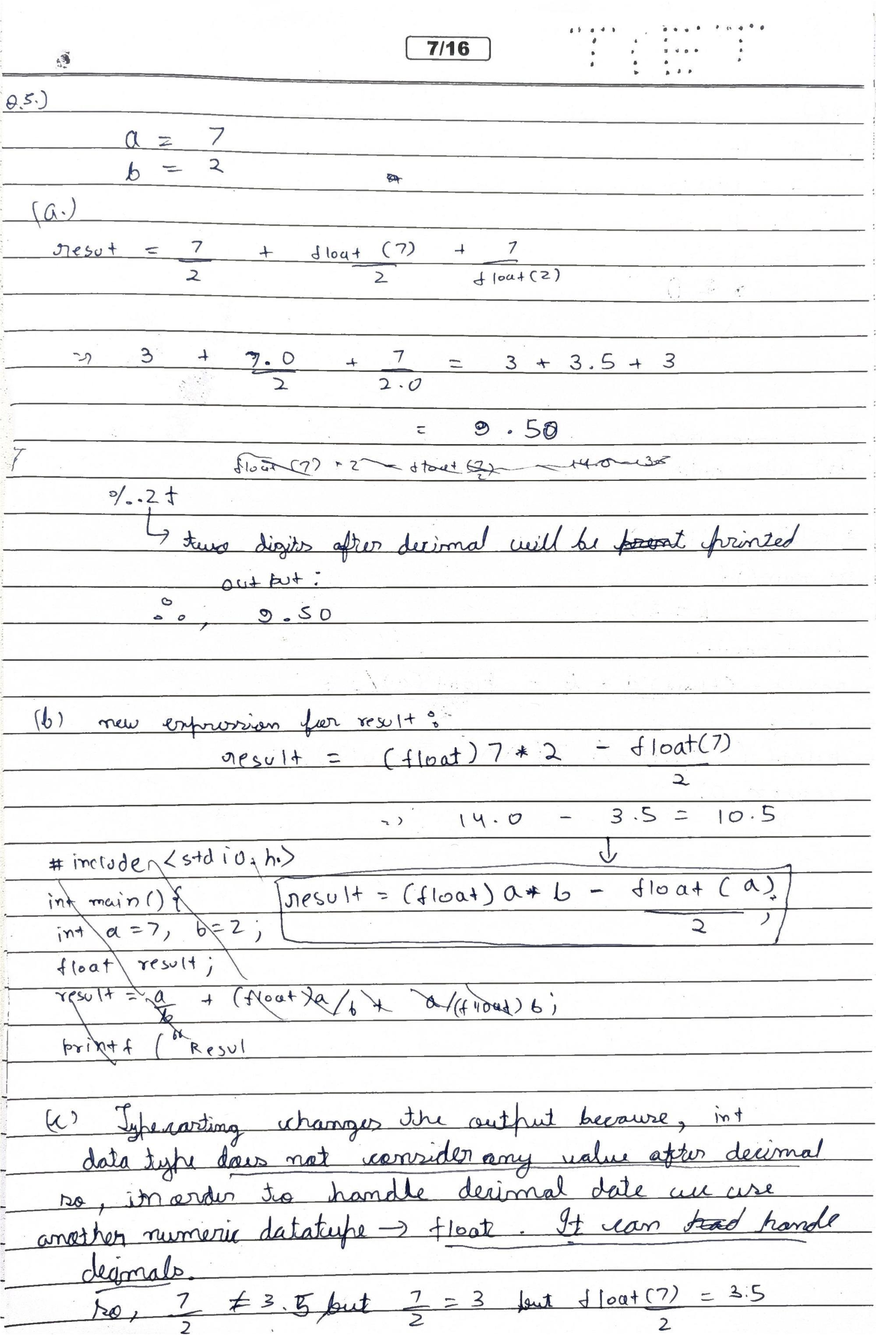cuttings: (39, 844, 571, 1068), (229, 444, 674, 484), (611, 521, 693, 559), (677, 1205, 752, 1236)
